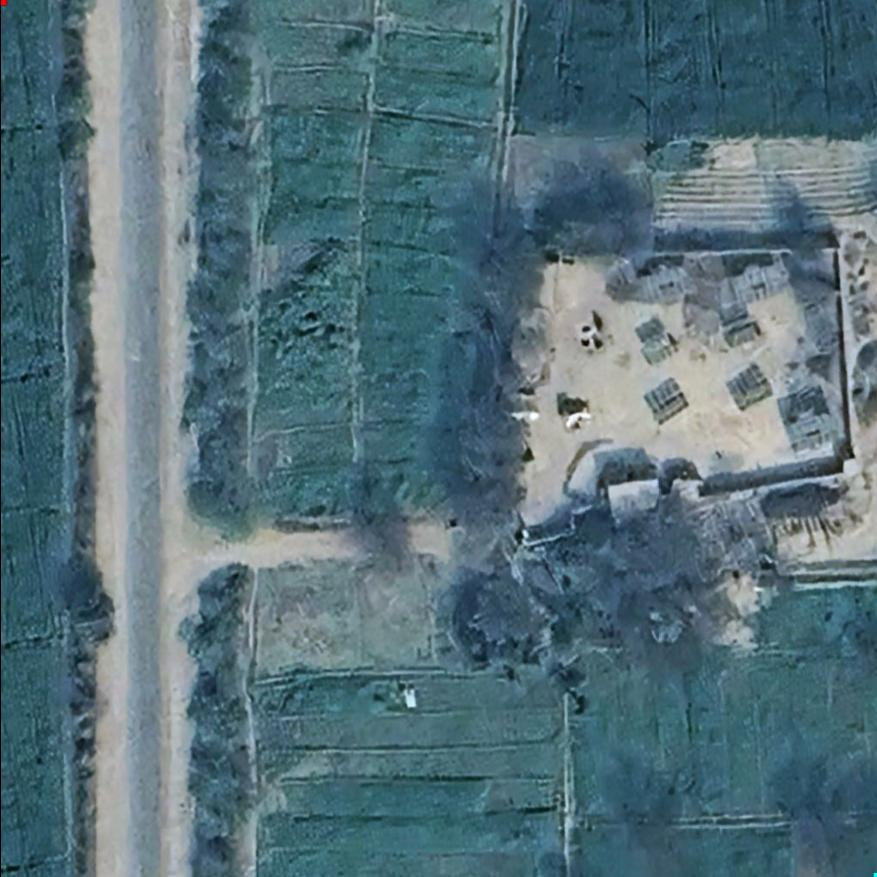Solarpanel: (721, 259, 791, 307), (784, 410, 842, 454), (734, 376, 777, 412), (647, 393, 691, 428), (640, 334, 680, 370), (722, 321, 763, 351)
